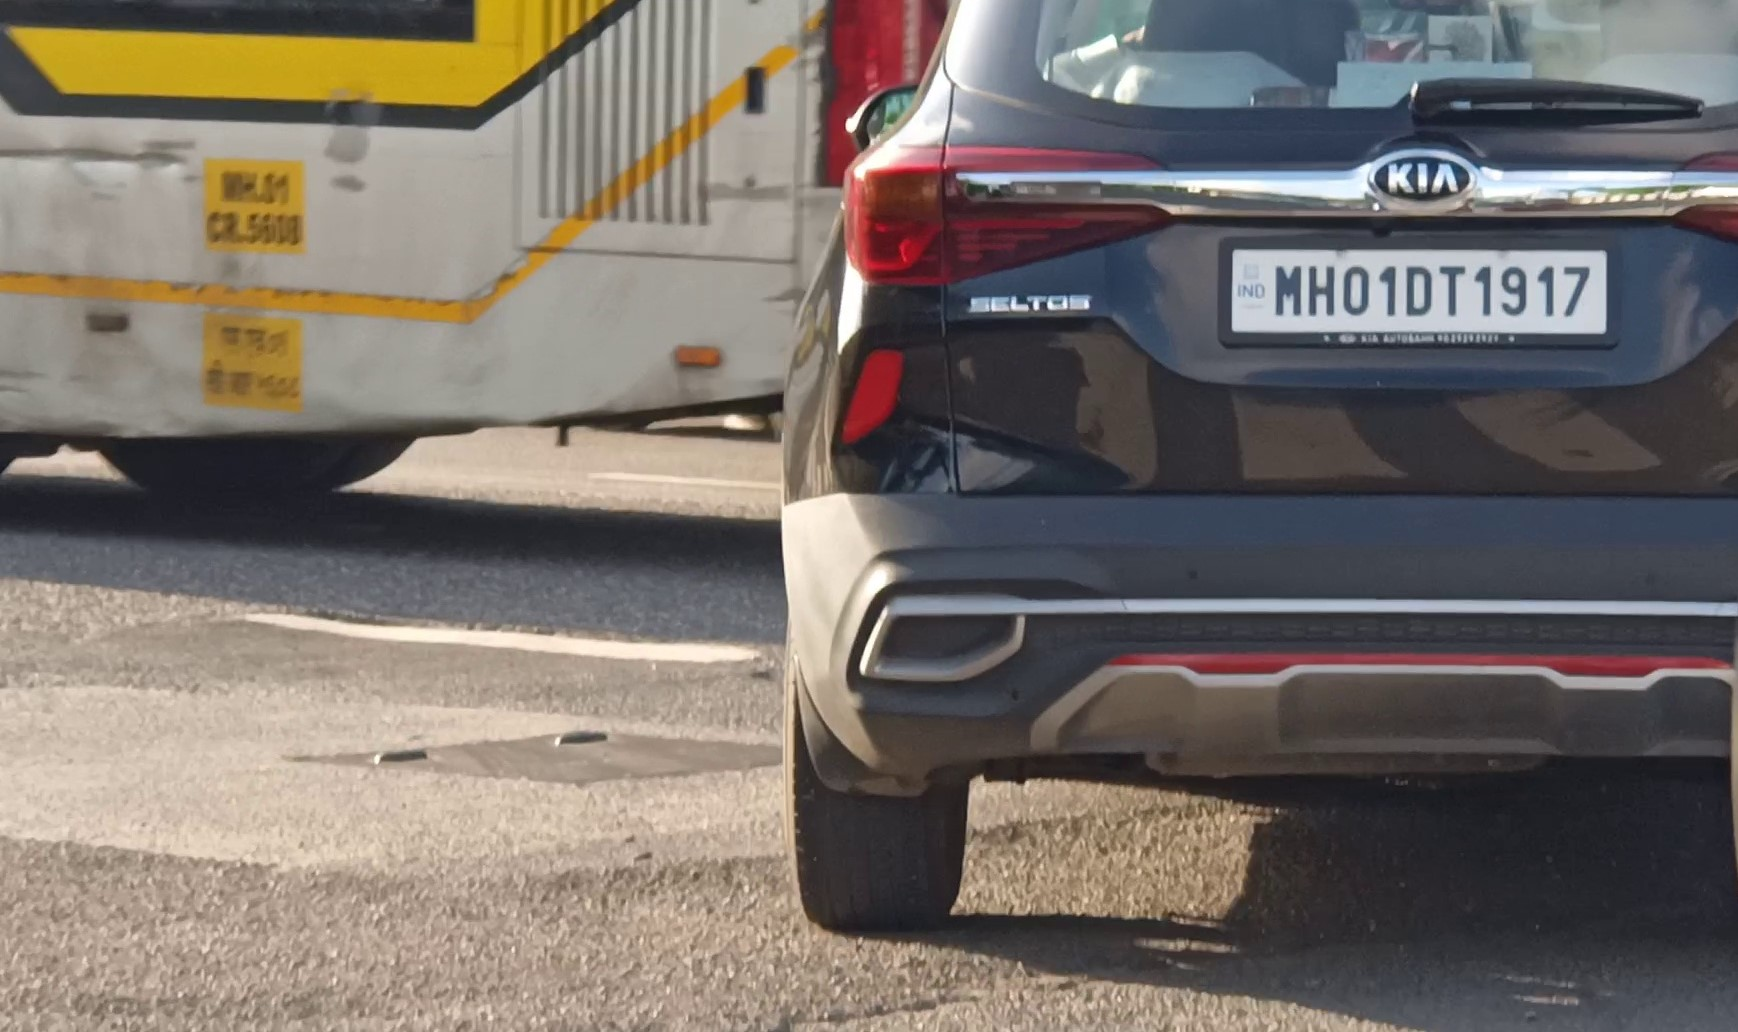MH01DT1917: (1227, 243, 1607, 337)
